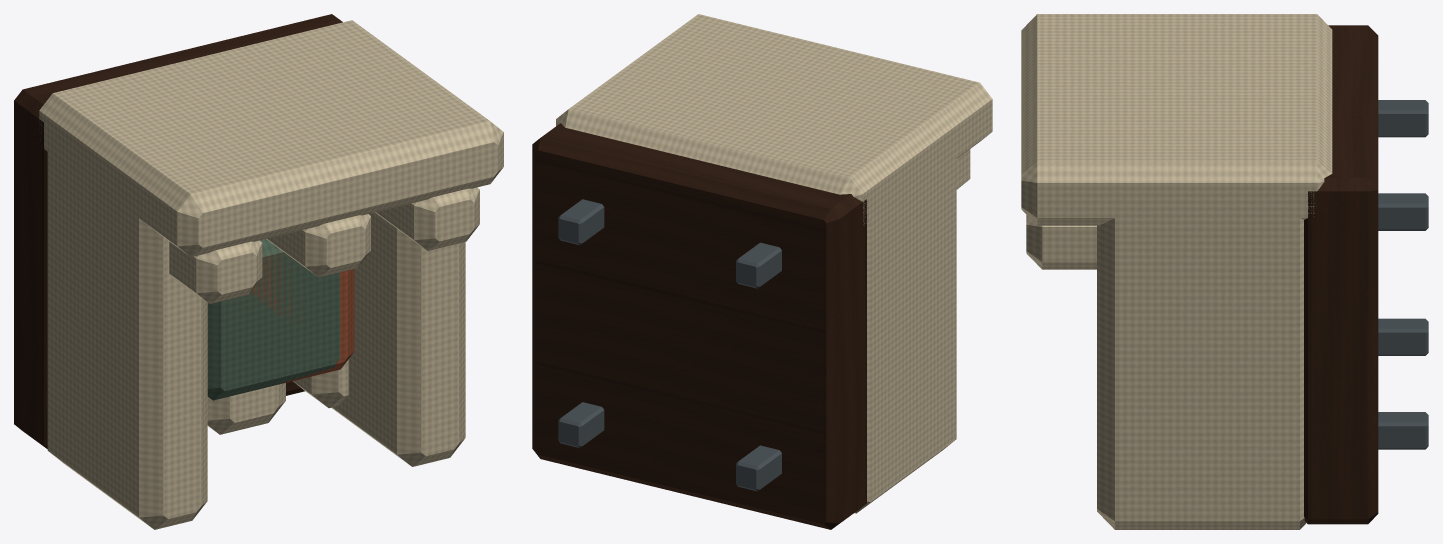
File: garden_chair.obj
The picture shows the model from 3 angles, left to right: view 1: azimuth 30°, elevation 25°; view 2: azimuth 150°, elevation 25°; view 3: azimuth 270°, elevation 25°; orthographic projection. The views are drawn at different scales.
Visible parts, largest first — view 1: garden_chair_fabric, garden_chair_walnut, garden_chair_sage, garden_chair_clay; view 2: garden_chair_walnut, garden_chair_fabric, garden_chair_metal; view 3: garden_chair_fabric, garden_chair_walnut, garden_chair_metal.
Part boxes in pixels (box(x1,y1,x2,y2)): garden_chair_fabric: box(39, 20, 503, 529); garden_chair_walnut: box(14, 14, 342, 448); garden_chair_sage: box(207, 239, 339, 400); garden_chair_clay: box(230, 247, 354, 385); garden_chair_walnut: box(532, 123, 866, 529); garden_chair_fabric: box(556, 14, 992, 513); garden_chair_metal: box(558, 199, 781, 491); garden_chair_fabric: box(1021, 14, 1332, 529); garden_chair_walnut: box(1304, 25, 1378, 524); garden_chair_metal: box(1378, 100, 1428, 449).
Bounding box in the file's own units: 38 × 40.5 × 40.5.
5 materials, 5 textured.
